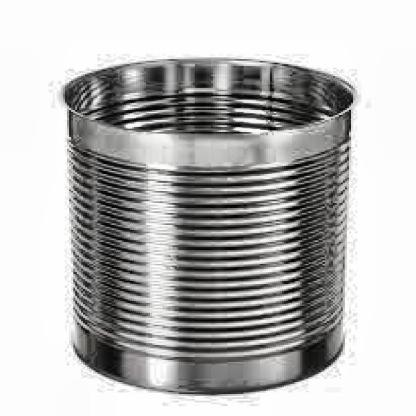Can: (54, 49, 354, 398)
